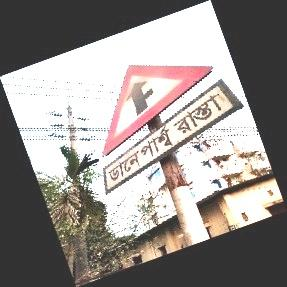Side-road-right: (100, 64, 235, 197)
